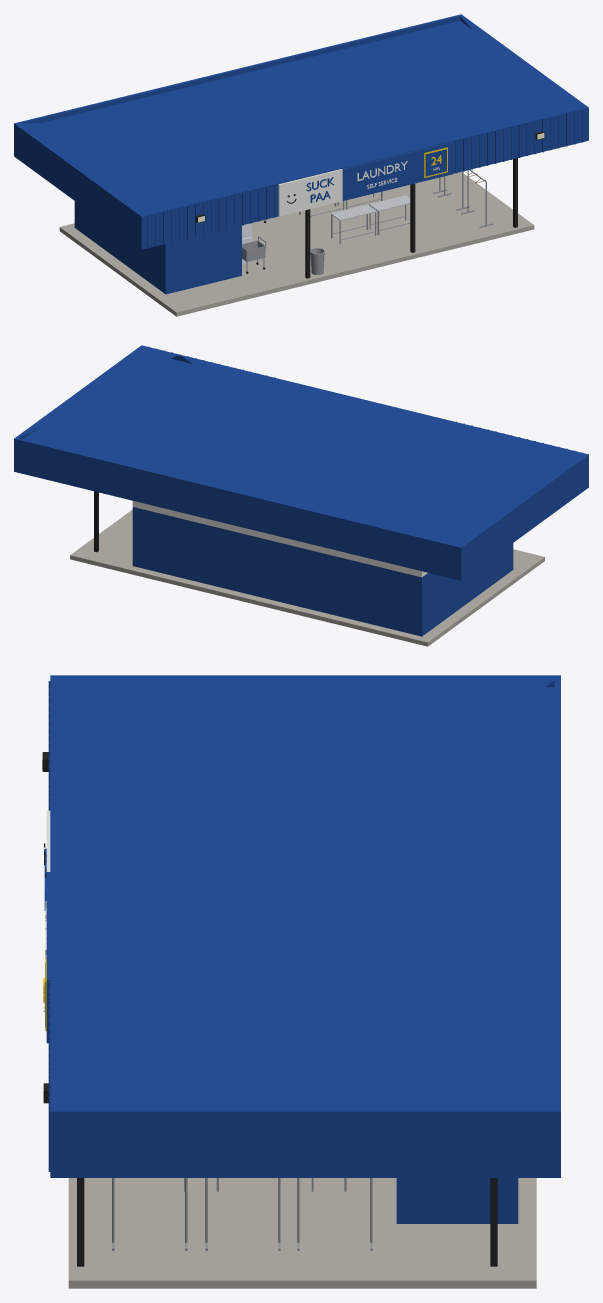
Rendered from Laundromat.fbx.
3 renders of one model, top to bottom at view 1: azimuth 30°, elevation 25°; view 2: azimuth 150°, elevation 25°; view 3: azimuth 270°, elevation 25°, orthographic. The views are drawn at different scales.
Visible parts, largest first — view 1: LaundromatBuilding, SignBoard, FoldingTable.004, FoldingTable.003, LaundryCart.001; view 2: LaundromatBuilding; view 3: LaundromatBuilding, SignBoard.
Boxes of the visible parts, box(x1,y1,x2,y2) form: LaundromatBuilding: box(14, 14, 588, 316); SignBoard: box(278, 142, 452, 216); FoldingTable.004: box(331, 204, 376, 244); FoldingTable.003: box(369, 195, 410, 234); LaundryCart.001: box(242, 236, 266, 273); LaundromatBuilding: box(14, 345, 588, 646); LaundromatBuilding: box(48, 675, 560, 1288); SignBoard: box(43, 810, 50, 1043).
Size of the model in its own units: 17 by 4.1 by 8.54.
